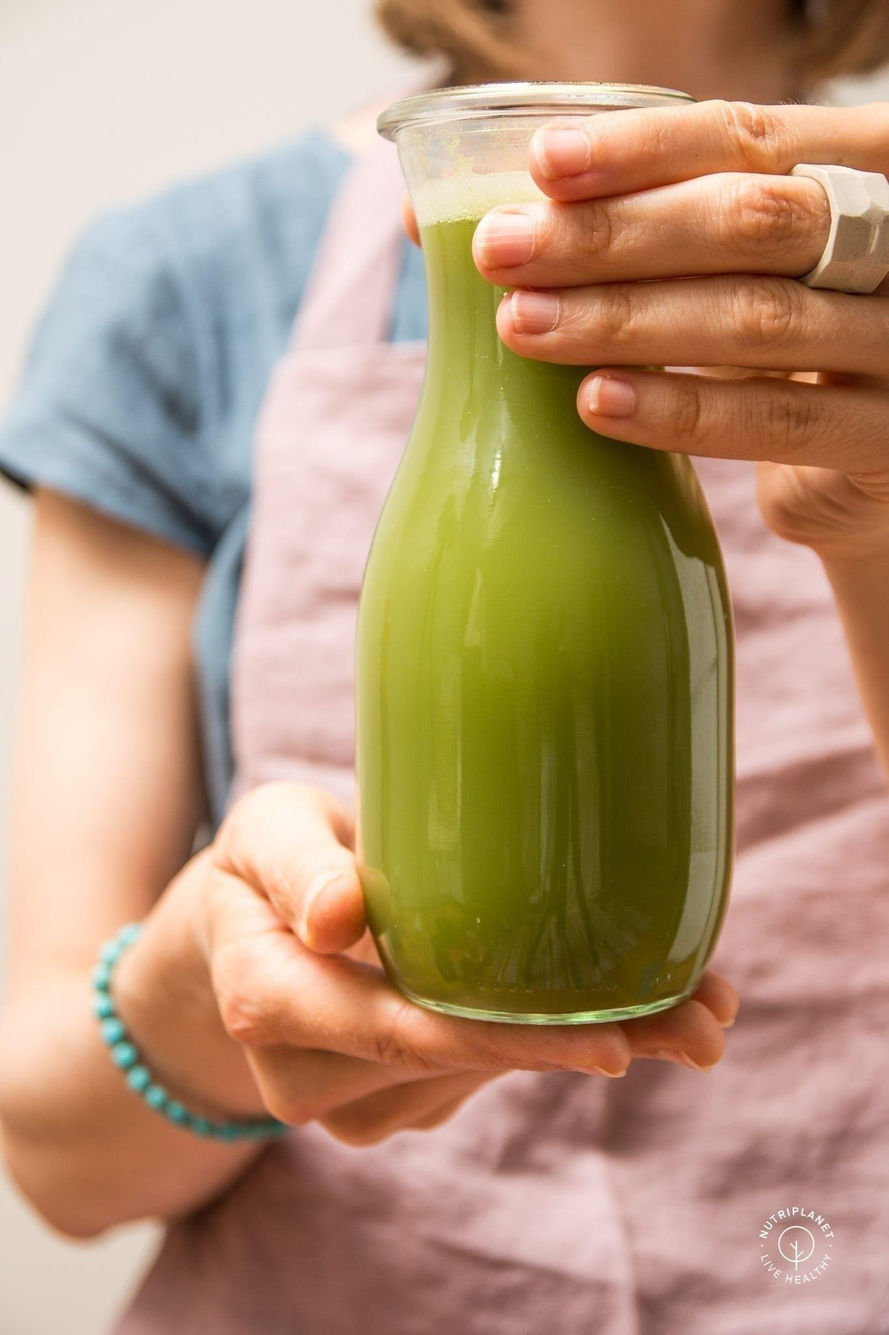bottle-glass: (344, 70, 741, 1044)
